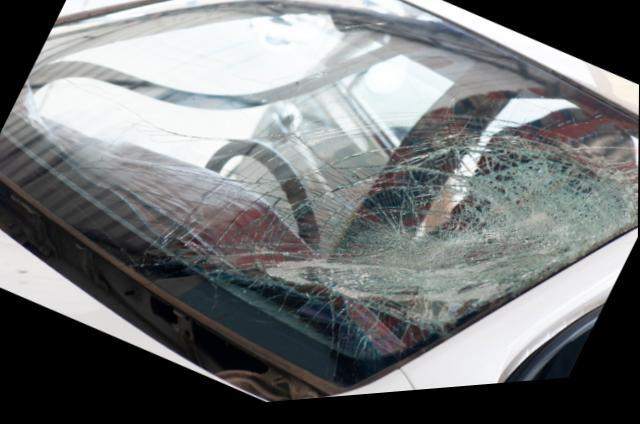glass shatter: (0, 0, 639, 395)
